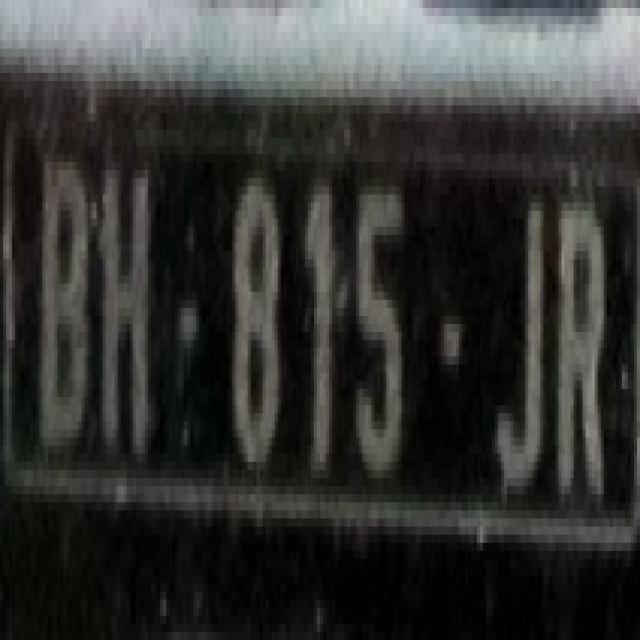Autre: (4, 96, 638, 536)
